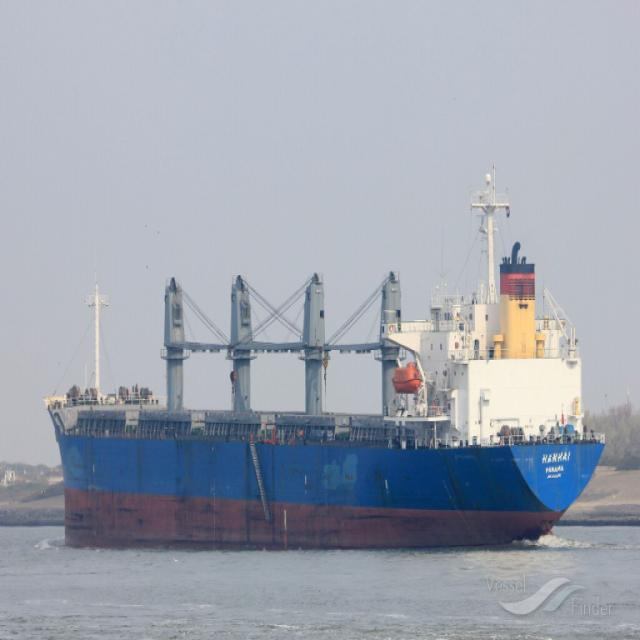OCR: (537, 445, 579, 495)
